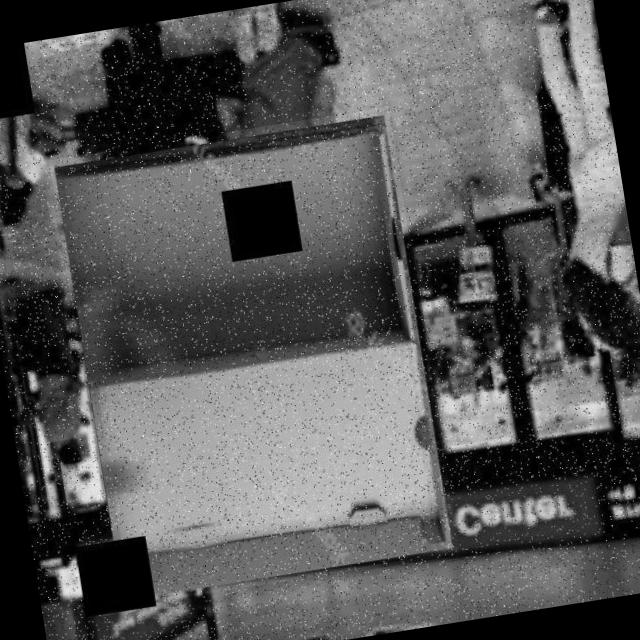box: (49, 106, 460, 607)
